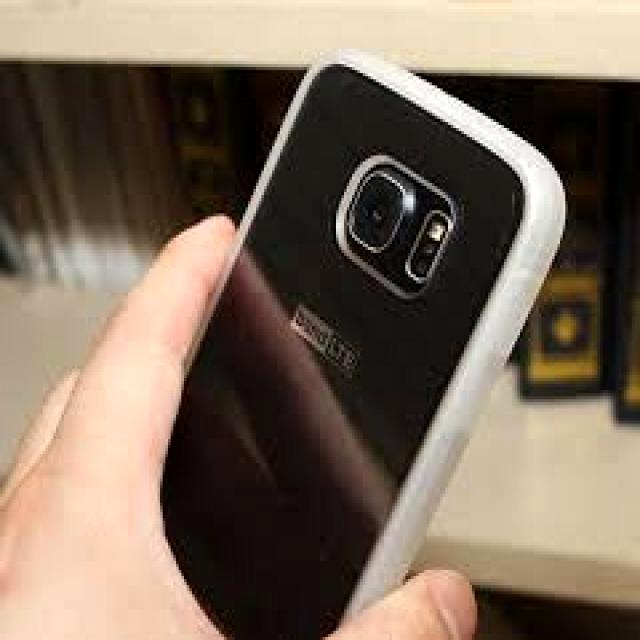lens_back: (346, 173, 399, 241), (408, 208, 453, 278)
phone: (160, 55, 555, 640)
